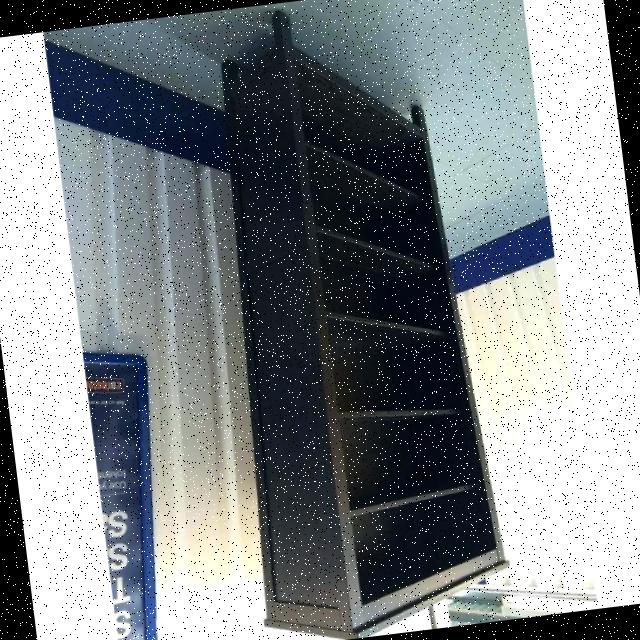Shelf: (176, 0, 520, 640)
